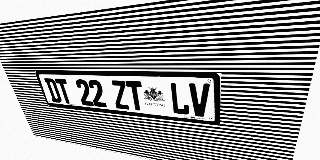2: (87, 79, 107, 107), (75, 79, 94, 106)
D: (44, 78, 63, 103)
L: (169, 82, 190, 115)
T: (125, 81, 145, 111), (54, 78, 73, 104)
V: (189, 83, 210, 117)
Z: (110, 80, 130, 110)
